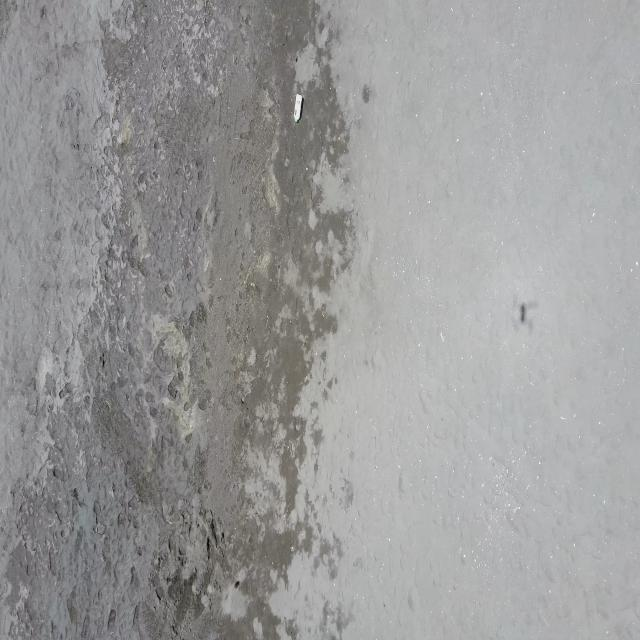plastic-bottle: (294, 92, 303, 124)
